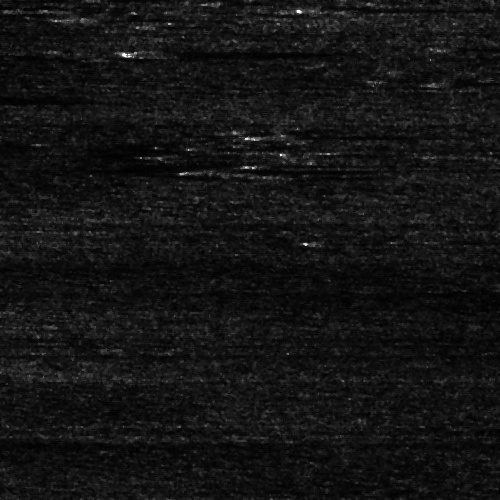object: (272, 0, 387, 9), (163, 164, 226, 175), (108, 45, 161, 56), (222, 132, 285, 139), (402, 151, 485, 156), (412, 80, 453, 85)
shadow: (135, 45, 316, 56), (194, 164, 318, 175), (254, 132, 443, 139), (330, 0, 461, 9), (0, 53, 57, 70), (433, 80, 499, 85), (443, 151, 500, 156)
